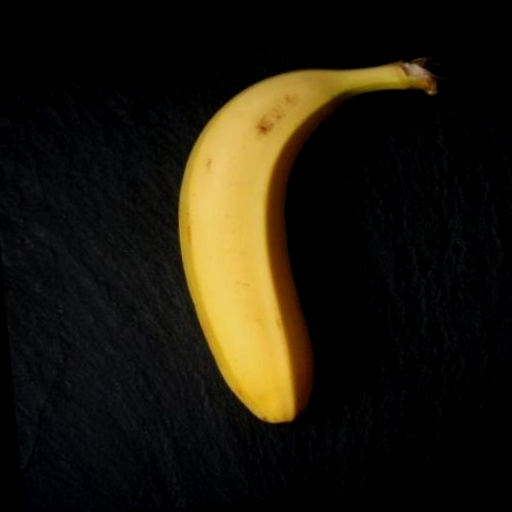fruit: (179, 59, 437, 422)
